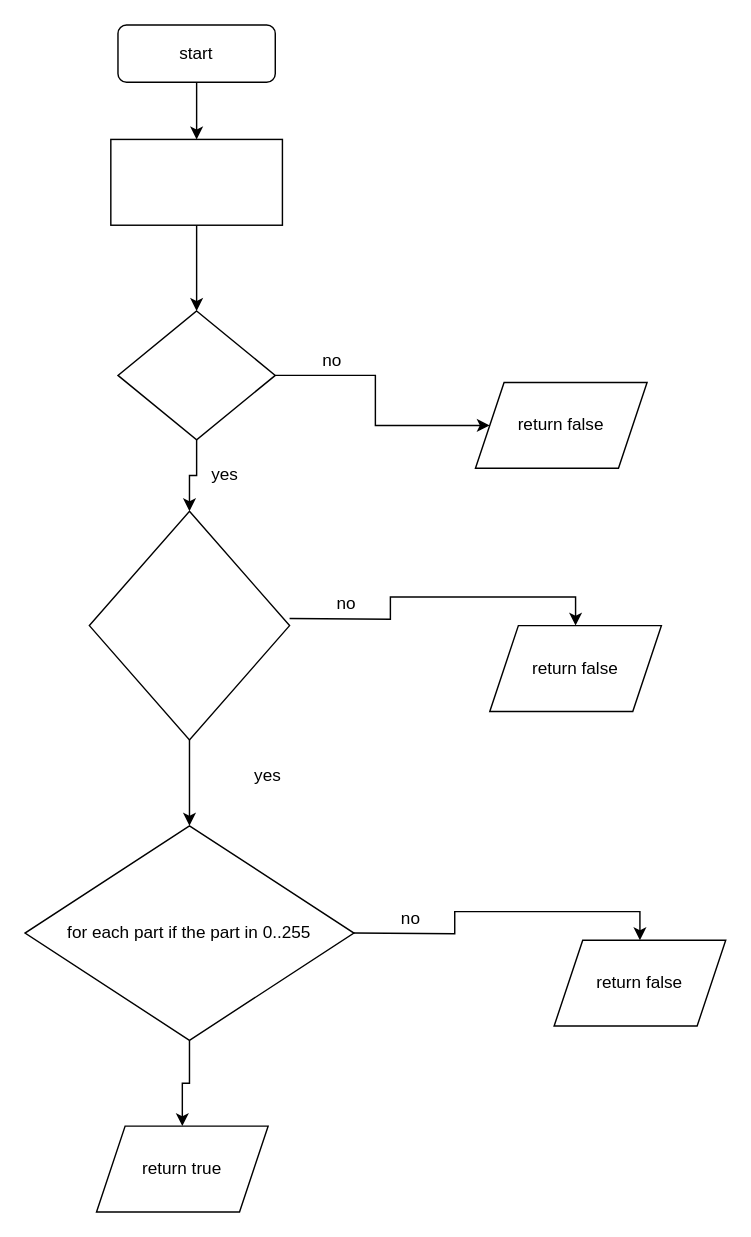
This 751x1237 diagram has some shape labels left out. Here are the shapes that lost their labels. From the top down, the centre of each, then its label:
[195,181]: isValidIPV4
[196,375]: if num size = 4
[189,625]: for wach part if part is Integer number
